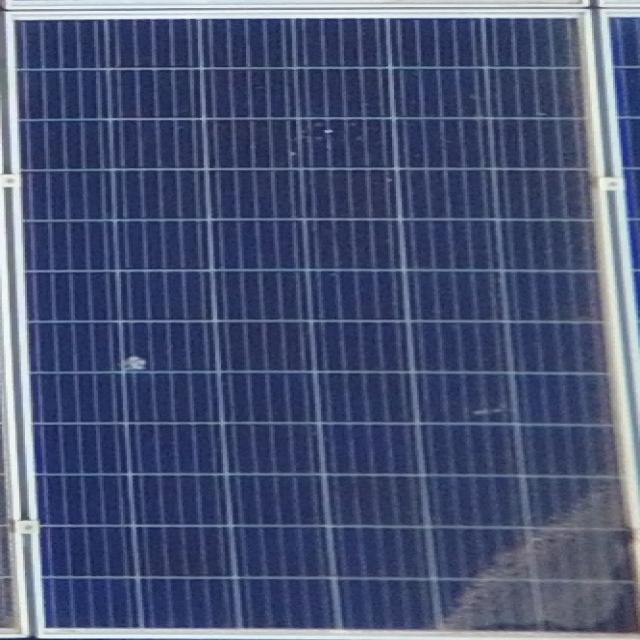Dust: (409, 481, 638, 633)
bird-droppings: (114, 350, 160, 375), (311, 121, 344, 139)
